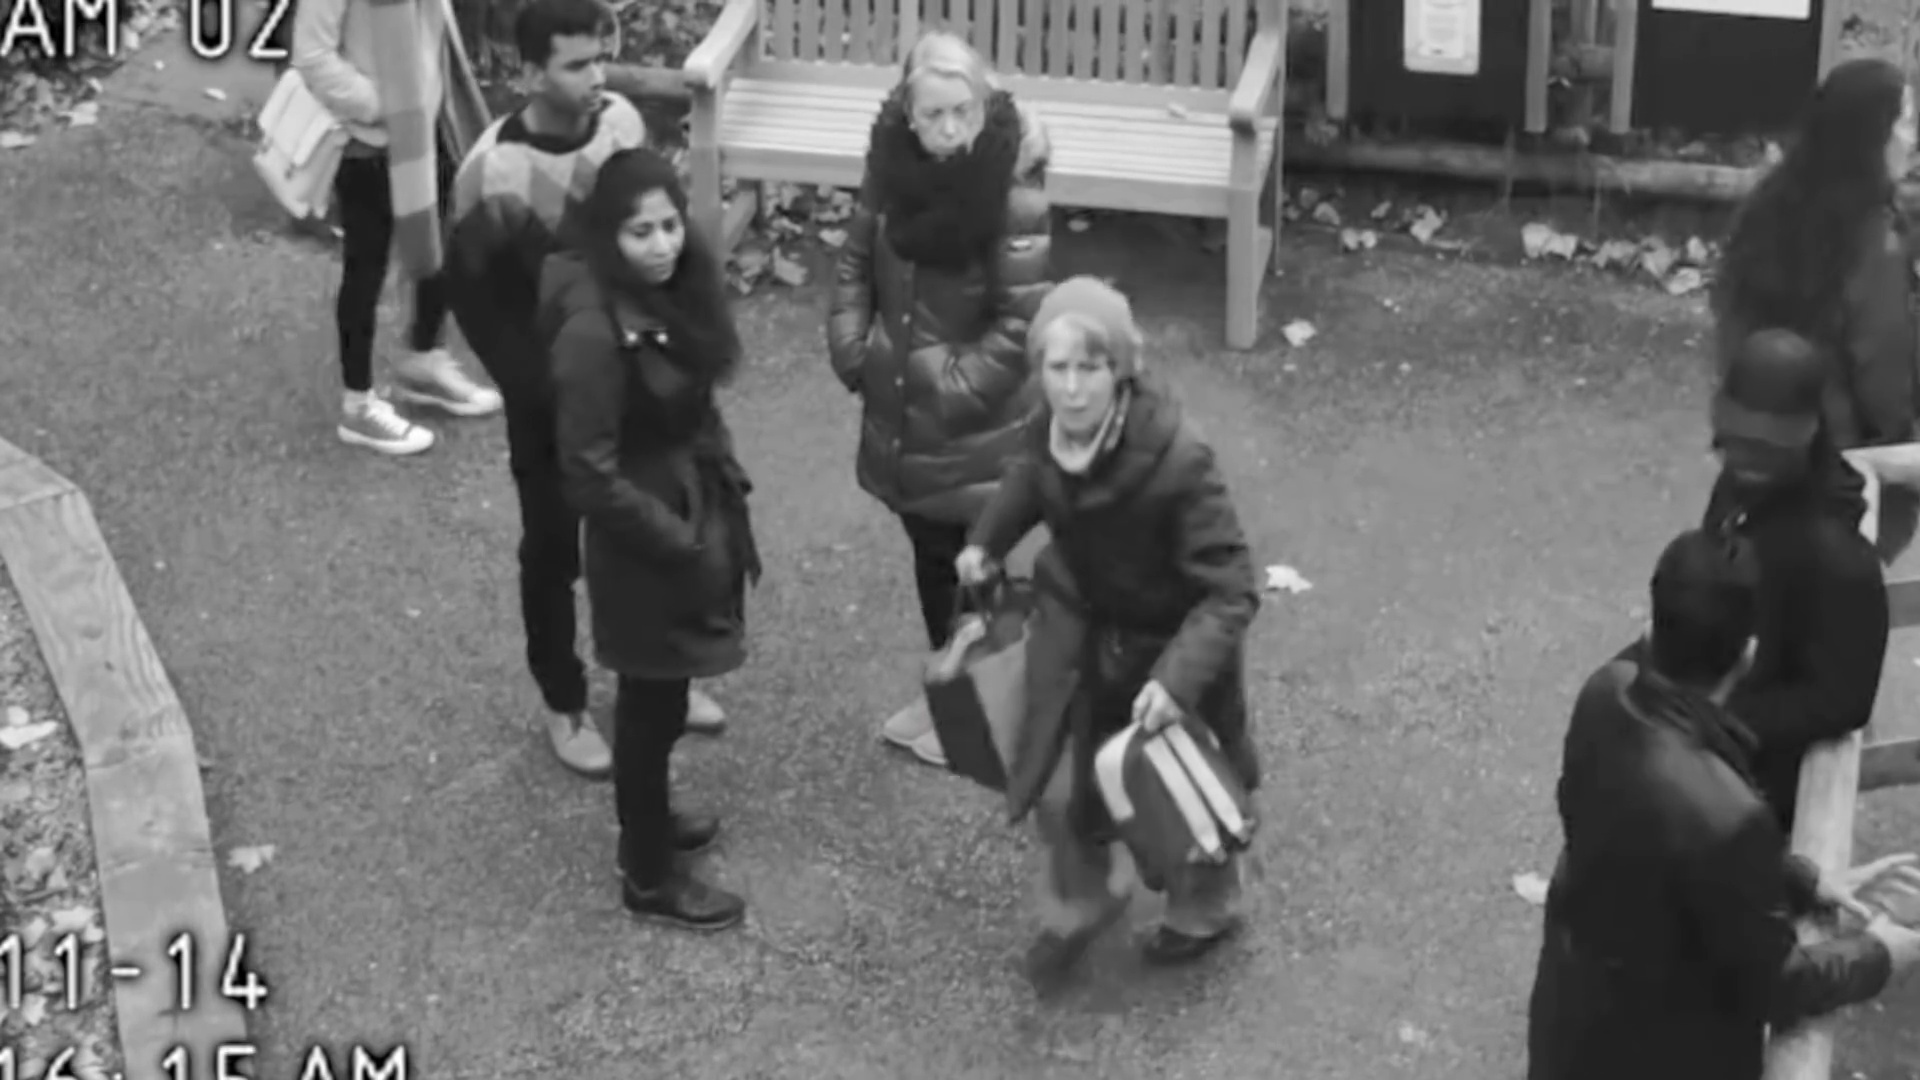face: (892, 53, 990, 160), (1031, 323, 1116, 433), (610, 185, 685, 279), (547, 31, 613, 109)
